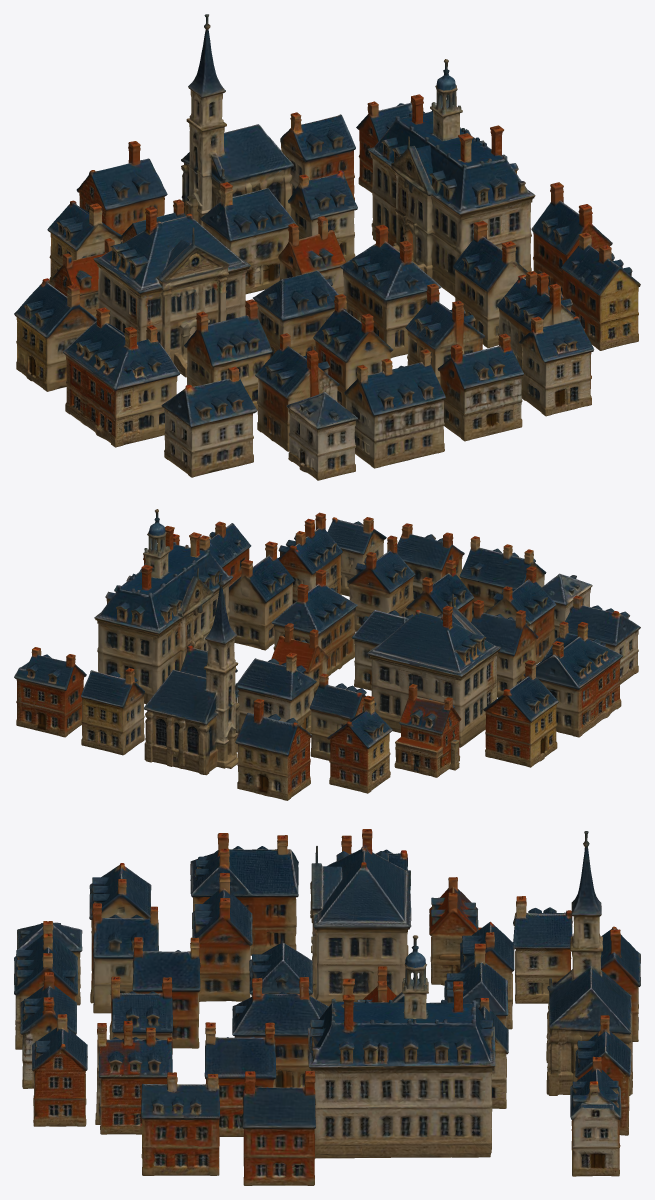
File: Enlightenment Town (Western).fbx
3 views of the same model, one above another, from view 1: azimuth 30°, elevation 25°; view 2: azimuth 150°, elevation 25°; view 3: azimuth 270°, elevation 25° (orthographic). The views are drawn at different scales.
Visible parts, largest first — view 1: tripo_node_be8e1581; view 2: tripo_node_be8e1581; view 3: tripo_node_be8e1581.
Part boxes in pixels (x1=…): tripo_node_be8e1581: x1=14, y1=14, x2=640, y2=480; tripo_node_be8e1581: x1=14, y1=509, x2=640, y2=800; tripo_node_be8e1581: x1=14, y1=829, x2=640, y2=1185.
Size of the model in its own units: 1 by 0.4153 by 0.9962.
